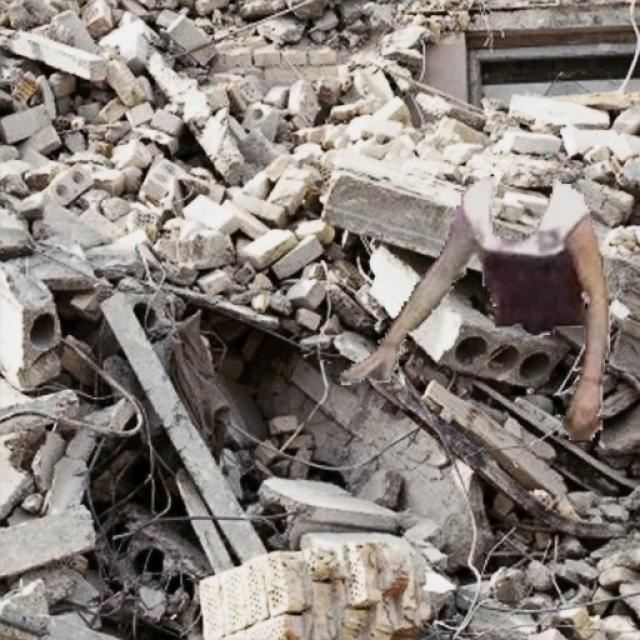Person in Rubble: (339, 176, 610, 442)
